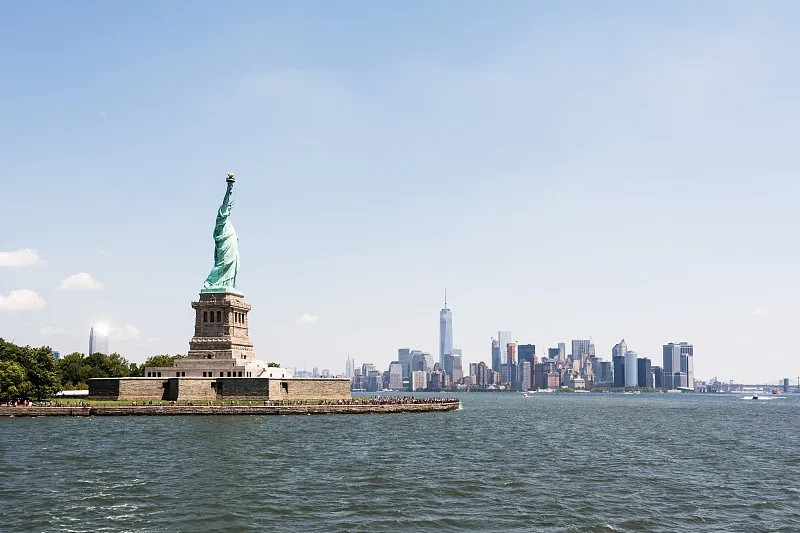SL: (188, 170, 255, 359)
